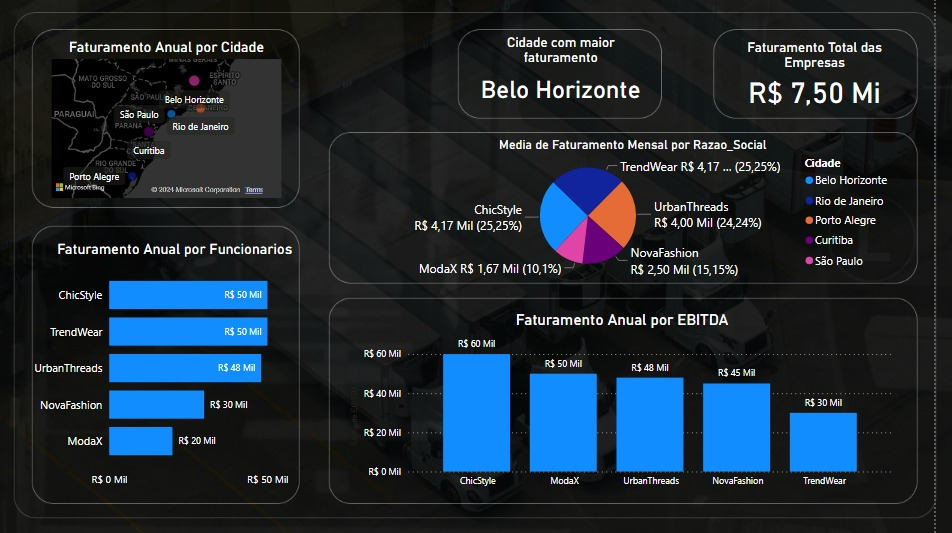

The page's visual inventory and layout, read from the dashboard file:
{"tool":"powerbi","page":{"name":"Página 1","canvas":[1280,720],"ordinal":0},"visuals":[{"type":"map","title":"Faturamento Anual por Cidade","fields":{"Category":["empresas_vestuario empresas_vestuarios.Cidade"],"Series":["empresas_vestuario empresas_vestuarios.Faturamento_Anual"],"Size":["Sum(empresas_vestuario empresas_vestuarios.Faturamento_Anual)"]},"box":[98.3,55,316.7,216.7],"z":0},{"type":"barChart","title":"Faturamento Anual por Funcionarios","fields":{"Category":["empresas_vestuario empresas_vestuarios.Razao_Social"],"Y":["Sum(empresas_vestuario empresas_vestuarios.Faturamento por Funcionarios)"]},"box":[68.3,323.3,398.3,338.3],"z":1},{"type":"card","title":"Cidade com maior faturamento","fields":{"Values":["Min(empresas_vestuario empresas_vestuarios.Cidade)"]},"box":[658.3,48.3,248.3,101.7],"z":2},{"type":"card","title":"Faturamento Total das Empresas","fields":{"Values":["Sum(empresas_vestuario empresas_vestuarios.Faturamento_Anual)"]},"box":[993.3,55,255,95],"z":3},{"type":"clusteredColumnChart","title":"Faturamento Anual por EBITDA","fields":{"Category":["empresas_vestuario empresas_vestuarios.Razao_Social"],"Y":["Sum(empresas_vestuario empresas_vestuarios.EBITDA Valor)"]},"box":[496.7,416.7,735,245],"z":4},{"type":"pieChart","title":"Media de Faturamento Mensal por Razao_Social","fields":{"Series":["empresas_vestuario empresas_vestuarios.Razao_Social"],"Y":["Sum(empresas_vestuario empresas_vestuarios.Media de Faturamento Mensal)"],"Category":["empresas_vestuario empresas_vestuarios.Cidade"]},"box":[525,185,706.7,191.7],"z":5}]}

Visuals, with their boxes in screenshot pixels (x1, y1, x2, y2), scaled from the page's 1280x720 canvas onto the 952x533 screenshot:
"Faturamento Anual por Cidade" map: <region>73, 41, 309, 201</region>
"Faturamento Anual por Funcionarios" barChart: <region>51, 239, 347, 490</region>
"Cidade com maior faturamento" card: <region>490, 36, 674, 111</region>
"Faturamento Total das Empresas" card: <region>739, 41, 928, 111</region>
"Faturamento Anual por EBITDA" clusteredColumnChart: <region>369, 308, 916, 490</region>
"Media de Faturamento Mensal por Razao_Social" pieChart: <region>390, 137, 916, 279</region>
